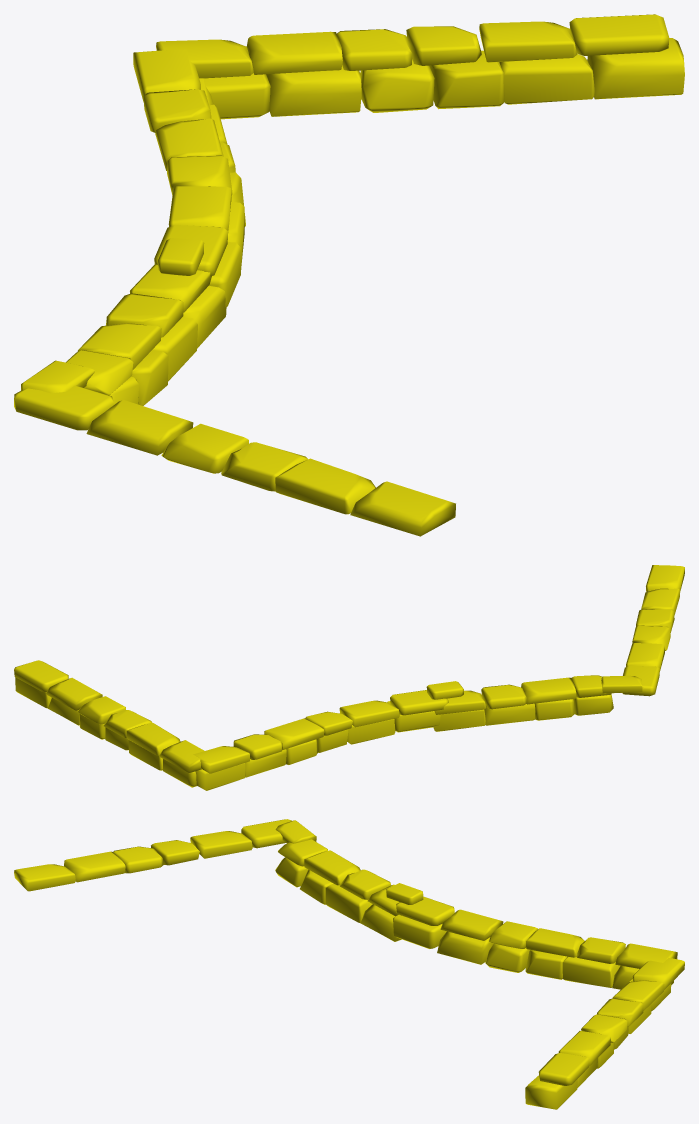
File: Tower_Floor_02_Slab.fbx
The picture shows the model from 3 angles, top to bottom: view 1: azimuth 30°, elevation 25°; view 2: azimuth 150°, elevation 25°; view 3: azimuth 270°, elevation 25°; orthographic projection. The views are drawn at different scales.
Visible parts, largest first — view 1: Tower_Floor_02_Slab; view 2: Tower_Floor_02_Slab; view 3: Tower_Floor_02_Slab.
Part boxes in pixels (x1,y1,x2,y2): Tower_Floor_02_Slab: (14, 14, 684, 536); Tower_Floor_02_Slab: (14, 565, 684, 790); Tower_Floor_02_Slab: (14, 819, 684, 1109).
Bounding box in the file's own units: 604 × 46.61 × 664.
